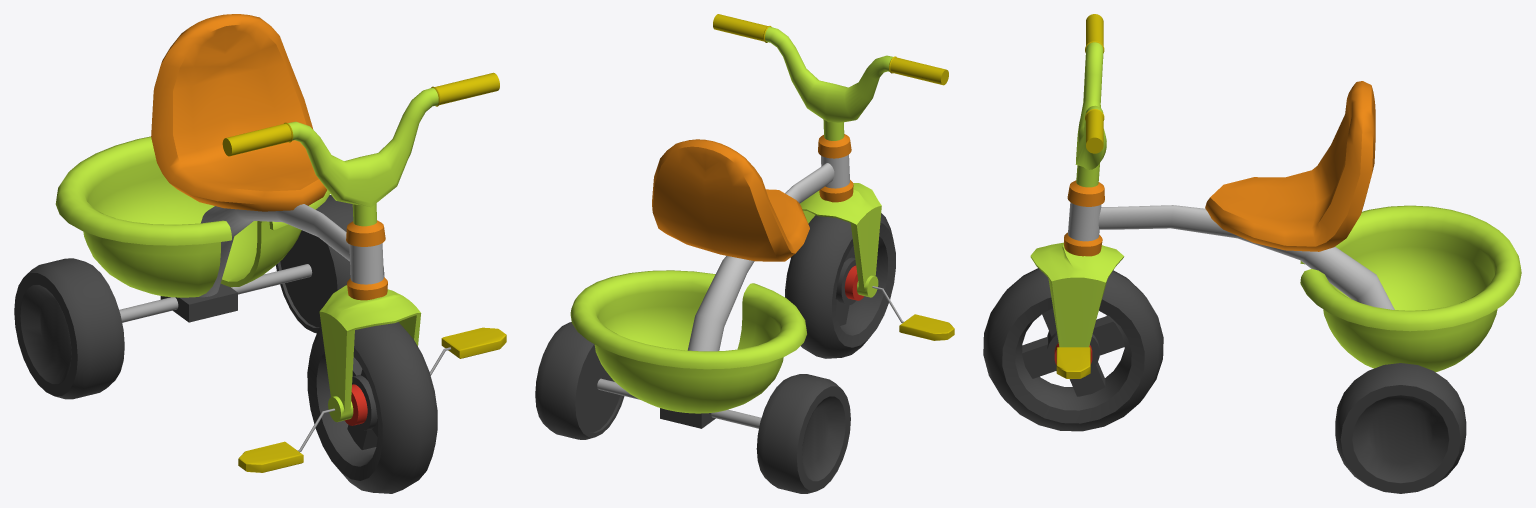
Rendered from low_poly_tricycle.glb.
The picture shows the model from 3 angles, left to right: view 1: azimuth 30°, elevation 25°; view 2: azimuth 150°, elevation 25°; view 3: azimuth 270°, elevation 25°; orthographic projection. The views are drawn at different scales.
Parts seen in each view (by area): view 1: Object_2, Object_3, Object_6, Object_8, Object_4, Object_5, Object_7; view 2: Object_3, Object_2, Object_6, Object_4, Object_8, Object_5; view 3: Object_3, Object_2, Object_6, Object_4, Object_8.
Part boxes in pixels (x1,y1,x2,y2): Object_2: (14, 195, 437, 493); Object_3: (55, 88, 438, 422); Object_6: (151, 14, 387, 300); Object_8: (222, 72, 506, 472); Object_4: (199, 204, 383, 297); Object_5: (119, 264, 450, 451); Object_7: (344, 384, 367, 425); Object_3: (570, 27, 892, 413); Object_2: (535, 213, 895, 493); Object_6: (652, 134, 853, 261); Object_4: (687, 154, 849, 351); Object_8: (713, 14, 954, 340); Object_5: (597, 257, 904, 428); Object_3: (1030, 42, 1521, 372); Object_2: (983, 268, 1466, 493); Object_6: (1064, 81, 1375, 256); Object_4: (1068, 202, 1394, 309); Object_8: (1056, 14, 1104, 378).
Size of the model in its own units: 37.38 by 43.41 by 60.
